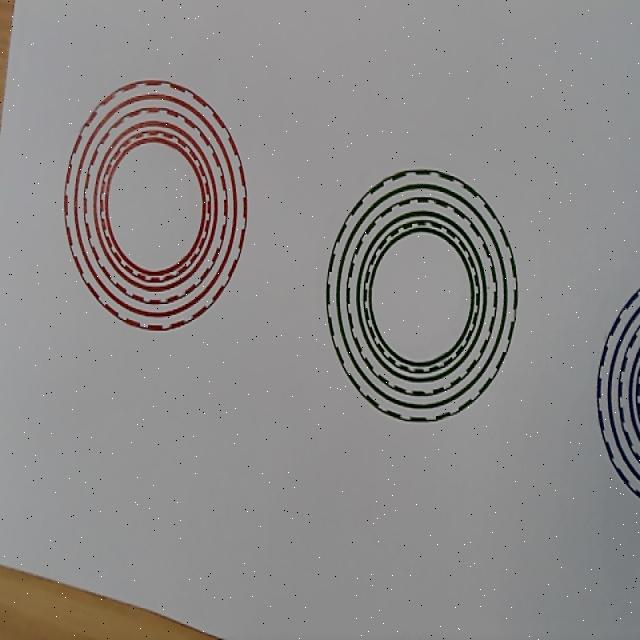g: (326, 169, 518, 423)
red-green-blue: (63, 82, 248, 330)
